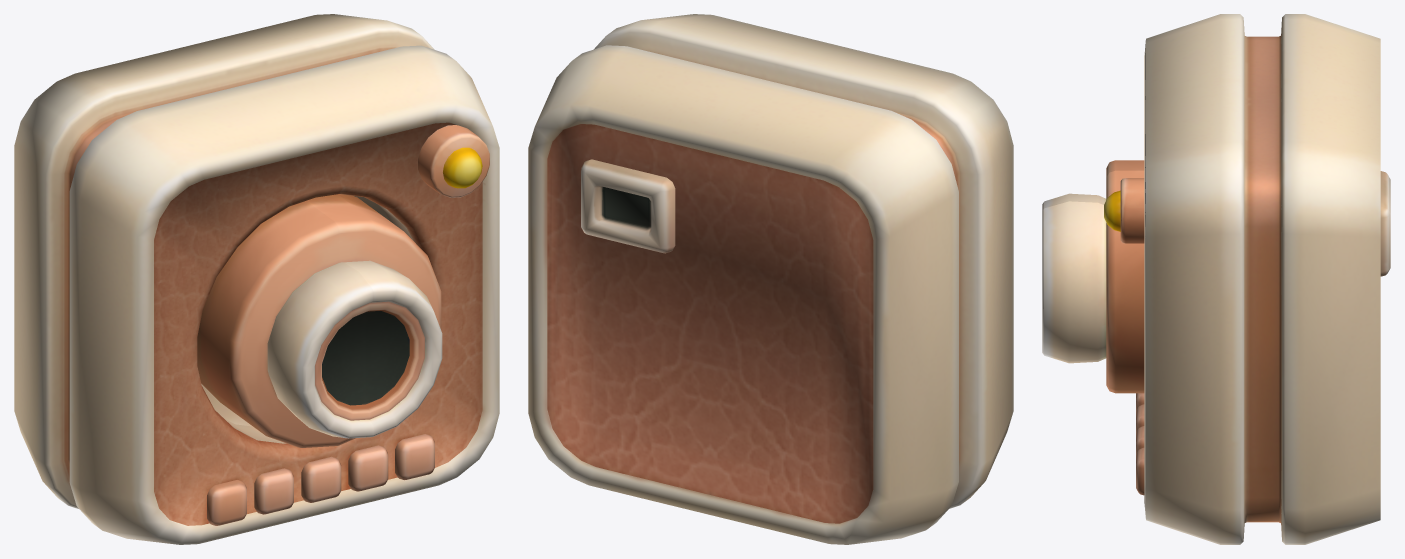
The model's file is PaiLiDe.FBX.
The picture shows the model from 3 angles, left to right: view 1: azimuth 30°, elevation 25°; view 2: azimuth 150°, elevation 25°; view 3: azimuth 270°, elevation 25°; orthographic projection. The views are drawn at different scales.
Parts seen in each view (by area): view 1: PaiLiDe; view 2: PaiLiDe; view 3: PaiLiDe.
Part boxes in pixels (x1=…): PaiLiDe: x1=14, y1=14, x2=499, y2=544; PaiLiDe: x1=528, y1=14, x2=1013, y2=544; PaiLiDe: x1=1042, y1=14, x2=1390, y2=544.
Size of the model in its own units: 89.39 by 89.67 by 71.25.
Materials: 1 (1 with a texture image).
